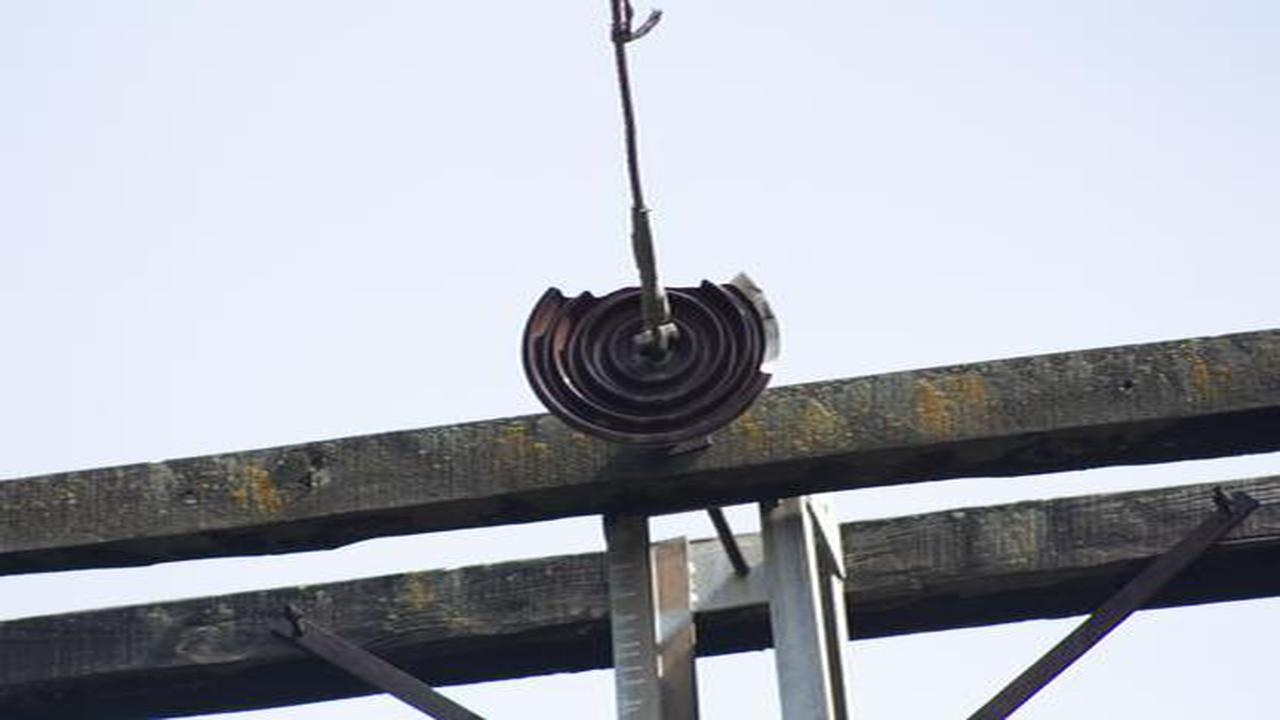defect_disc: (514, 268, 788, 453)
